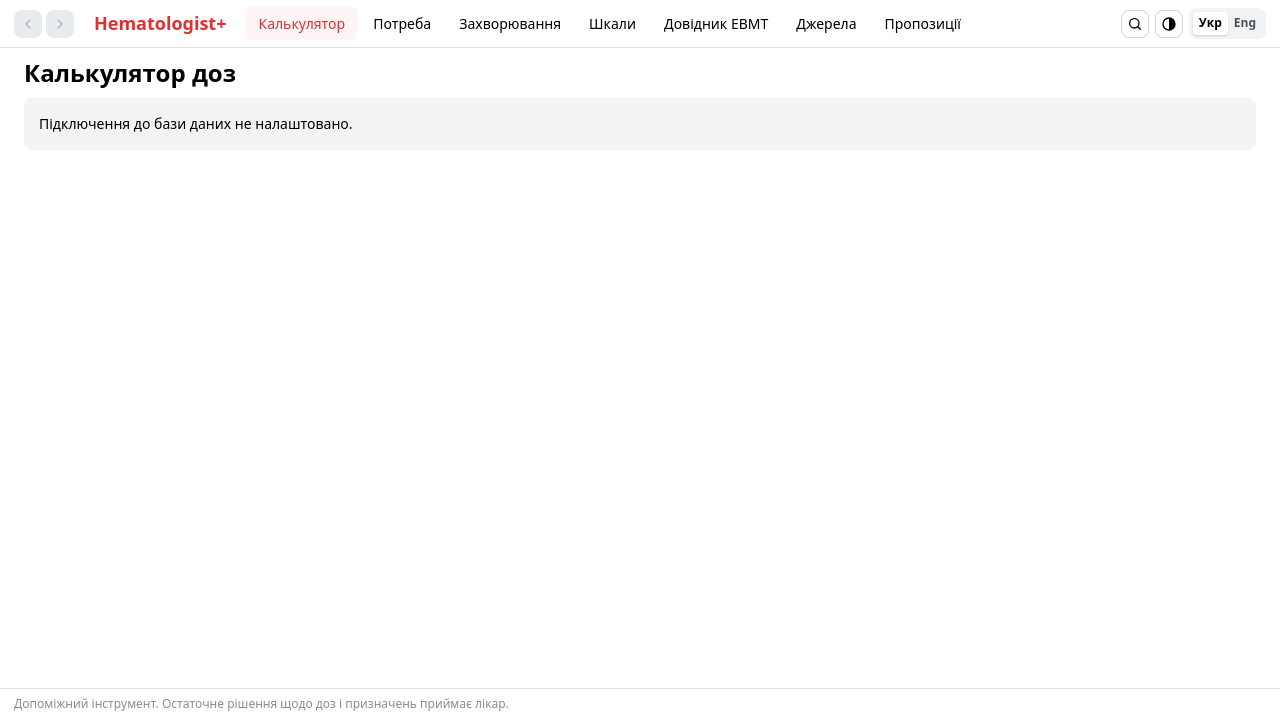
Test: App shell › switches the interface language and remembers the choice
Click the text "Eng" at (1245, 23), box [1234,14,1256,31]
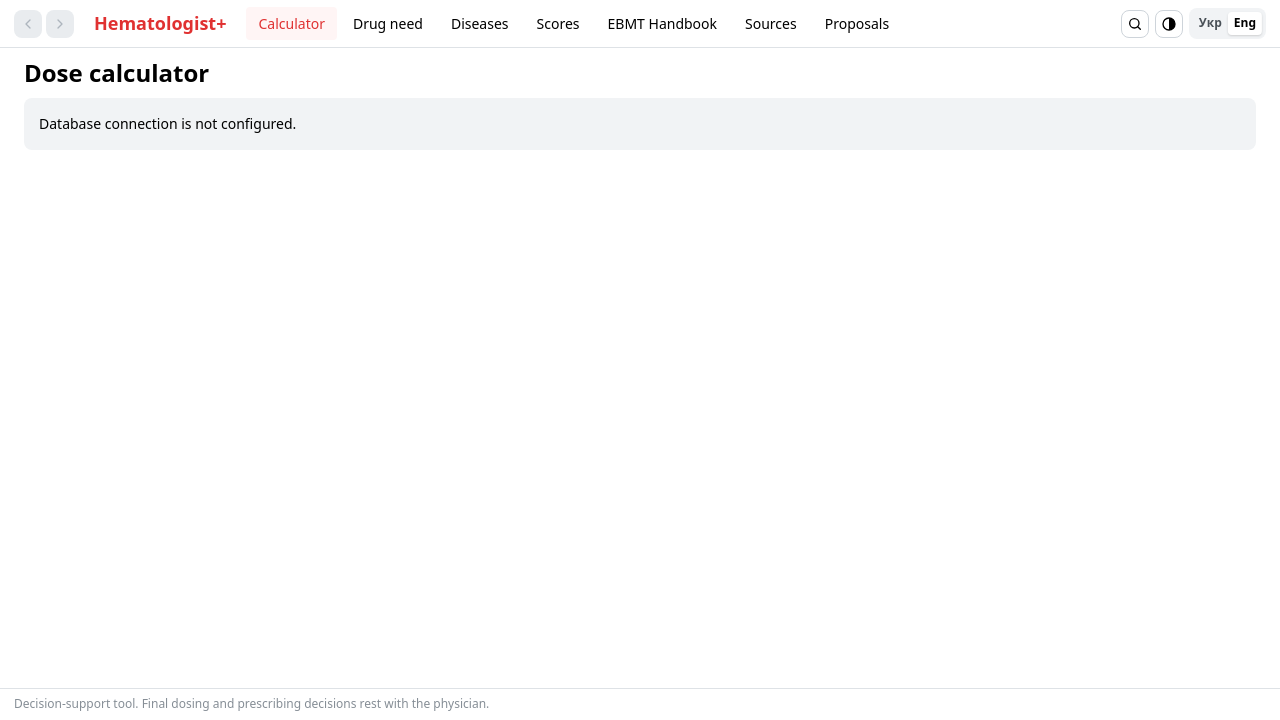
Expected: the heading "Dose calculator" is shown, [24,56,209,89]
